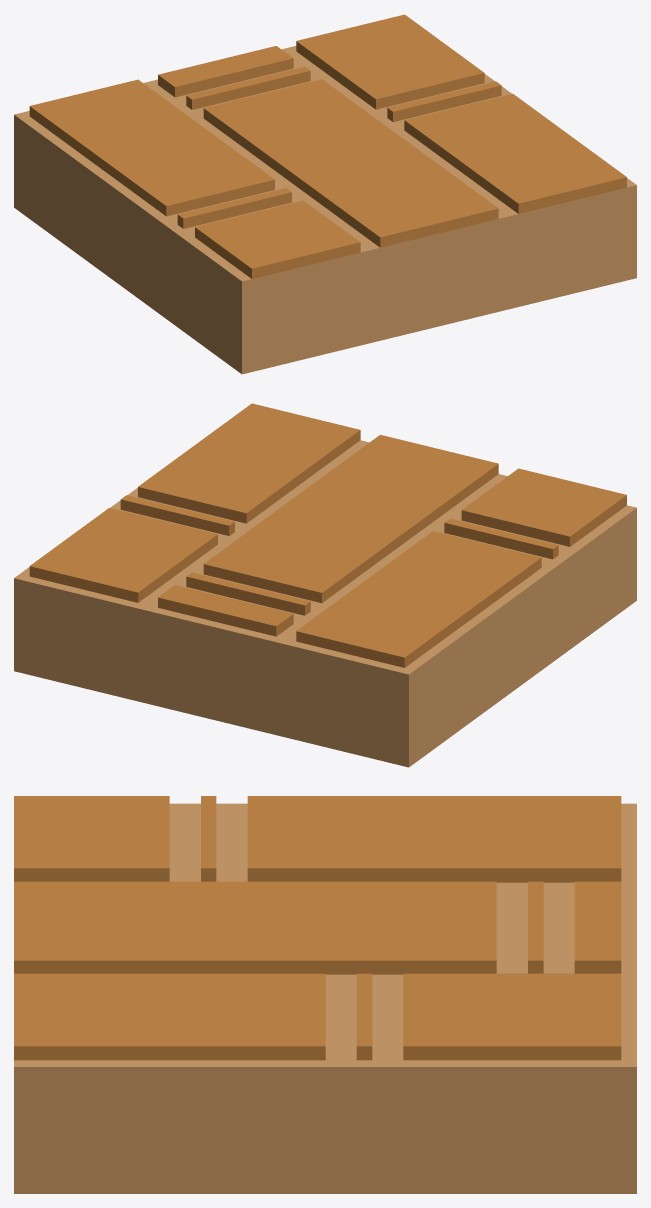
Rendered from floortile_1_orange.fbx.
The picture shows the model from 3 angles, top to bottom: view 1: azimuth 30°, elevation 25°; view 2: azimuth 150°, elevation 25°; view 3: azimuth 270°, elevation 25°; orthographic projection. The views are drawn at different scales.
Visible parts, largest first — view 1: floortile_1_orange; view 2: floortile_1_orange; view 3: floortile_1_orange.
Part boxes in pixels (x1=…): floortile_1_orange: x1=14, y1=14, x2=636, y2=374; floortile_1_orange: x1=14, y1=403, x2=636, y2=767; floortile_1_orange: x1=14, y1=796, x2=636, y2=1193.
Size of the model in its own units: 40 by 10 by 40.
